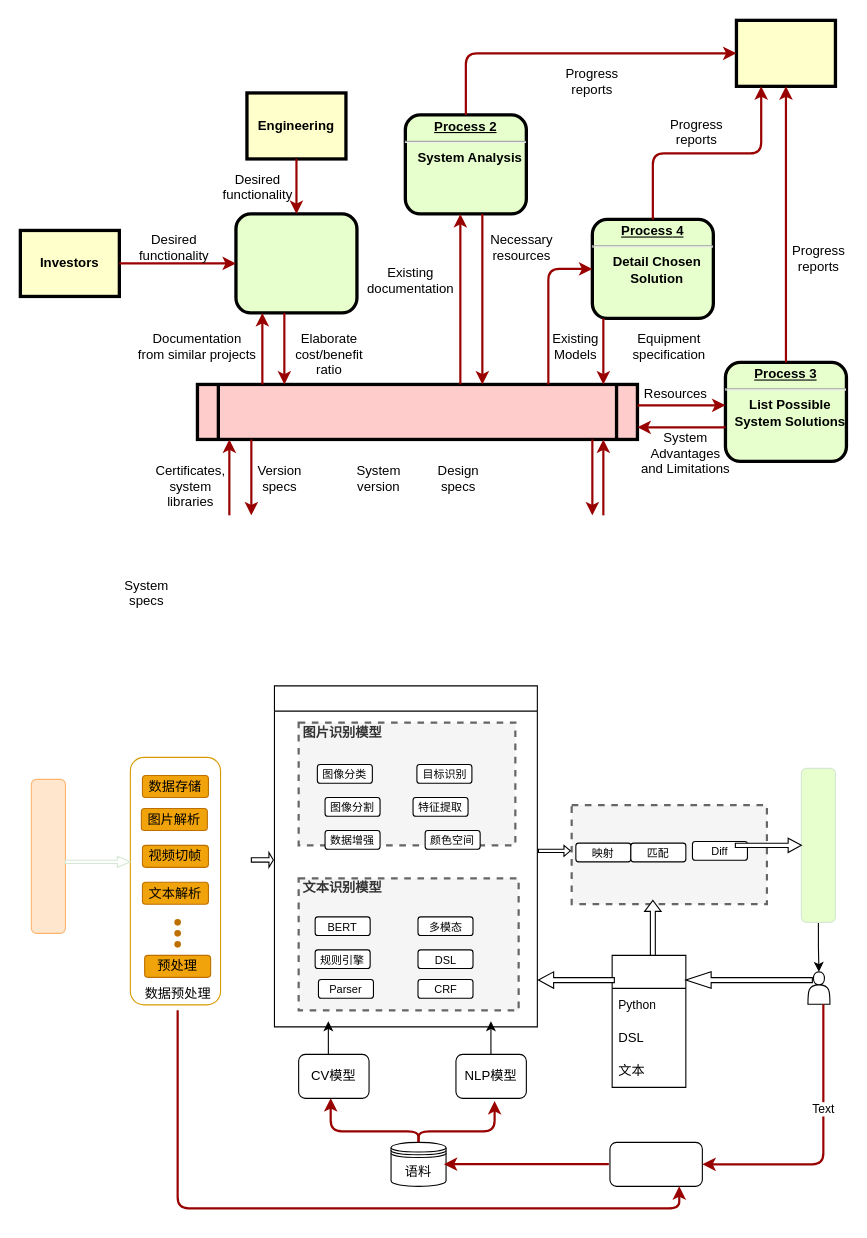
The diagram is 867 pixels wide and 1238 high, and some of its shapes have lost their labels. Each missing label, with the box of its shape:
CV+NLP: (273, 685, 537, 1027)
Management: (734, 18, 837, 87)
ON-DEMAND SYSTEM DEVELOPMENT: (195, 382, 639, 441)
Process 1 System Study Preparation: (234, 212, 358, 314)
图文融合: (570, 804, 767, 905)
数据整理: (609, 1141, 702, 1186)
测 试 平 台: (800, 767, 835, 922)
真 机 平 台: (30, 778, 65, 933)
规则配置: (611, 954, 686, 1087)
